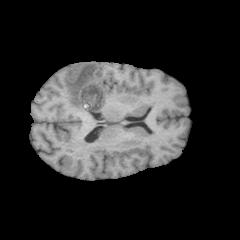glioma: (65, 64, 111, 113)
